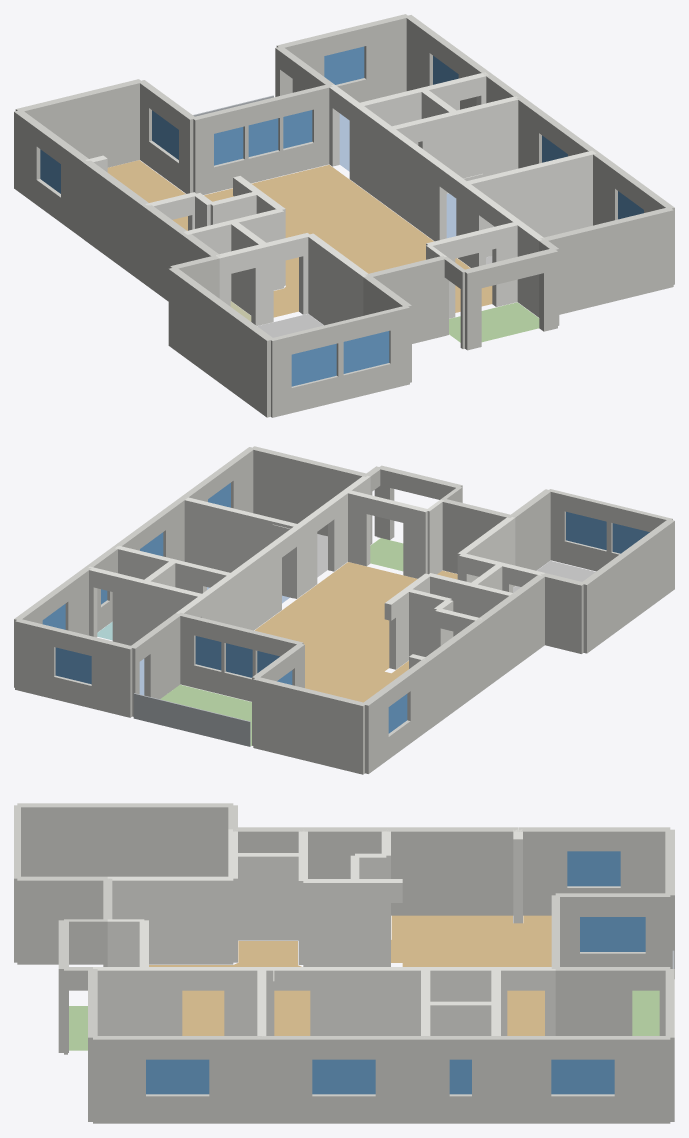
File: autocad_plan_3d.obj
3 renders of one model, top to bottom at view 1: azimuth 30°, elevation 25°; view 2: azimuth 150°, elevation 25°; view 3: azimuth 270°, elevation 25°, orthographic. The views are drawn at different scales.
Parts seen in each view (by area): view 1: floor_R3_living_126, wall_W20_43, wall_W23_54, wall_W14_31, wall_W1_0, wall_W24_55, wall_W40_84, wall_W8_23, wall_W30_64, wall_W19_42, wall_W2_4, wall_W39_83 (+68 smaller); view 2: floor_R3_living_126, wall_W1_0, wall_W23_54, wall_W20_43, wall_W14_31, wall_W24_55, wall_W40_84, railing_R1_123, wall_W2_1, wall_W2_4, wall_W15_32, wall_W25_56 (+60 smaller); view 3: floor_R3_living_126, wall_W23_54, wall_W24_55, wall_W30_64, wall_W40_84, wall_W31_65, wall_W28_62, wall_W37_79, wall_W46_95, wall_W46_98, wall_W49_107, wall_W49_110 (+55 smaller).
Part boxes in pixels (box(x1,y1,x2,y2)): floor_R3_living_126: box(107, 160, 492, 317); wall_W20_43: box(540, 207, 673, 314); wall_W23_54: box(168, 268, 272, 417); wall_W14_31: box(463, 150, 595, 257); wall_W1_0: box(15, 79, 142, 167); wall_W24_55: box(83, 160, 150, 282); wall_W40_84: box(387, 129, 446, 241); wall_W8_23: box(453, 96, 518, 178); wall_W30_64: box(306, 233, 369, 325); wall_W19_42: box(365, 255, 446, 343); wall_W2_4: box(362, 14, 409, 100); wall_W39_83: box(354, 105, 391, 205); floor_R3_living_126: box(255, 562, 457, 702); wall_W1_0: box(253, 676, 366, 774); wall_W23_54: box(582, 519, 674, 653); wall_W20_43: box(251, 446, 368, 536); wall_W14_31: box(184, 497, 300, 572); wall_W24_55: box(424, 619, 484, 728); wall_W40_84: box(231, 540, 281, 630); railing_R1_123: box(133, 693, 250, 746); wall_W2_1: box(91, 637, 133, 717); wall_W2_4: box(15, 618, 57, 699); wall_W15_32: box(541, 573, 585, 653); wall_W25_56: box(478, 594, 518, 689); floor_R3_living_126: box(149, 915, 551, 1035); wall_W23_54: box(17, 803, 233, 876); wall_W24_55: box(386, 827, 517, 915); wall_W30_64: box(107, 876, 233, 964); wall_W40_84: box(310, 967, 425, 1035); wall_W31_65: box(17, 876, 107, 964); wall_W28_62: box(233, 853, 303, 940); wall_W37_79: box(555, 967, 632, 1035); wall_W46_95: box(614, 1036, 670, 1123); wall_W46_98: box(496, 1036, 551, 1123); wall_W49_107: box(209, 1036, 261, 1123); wall_W49_110: box(93, 1036, 145, 1123).
Size of the model in its own units: 16.58 by 2.75 by 19.6.
